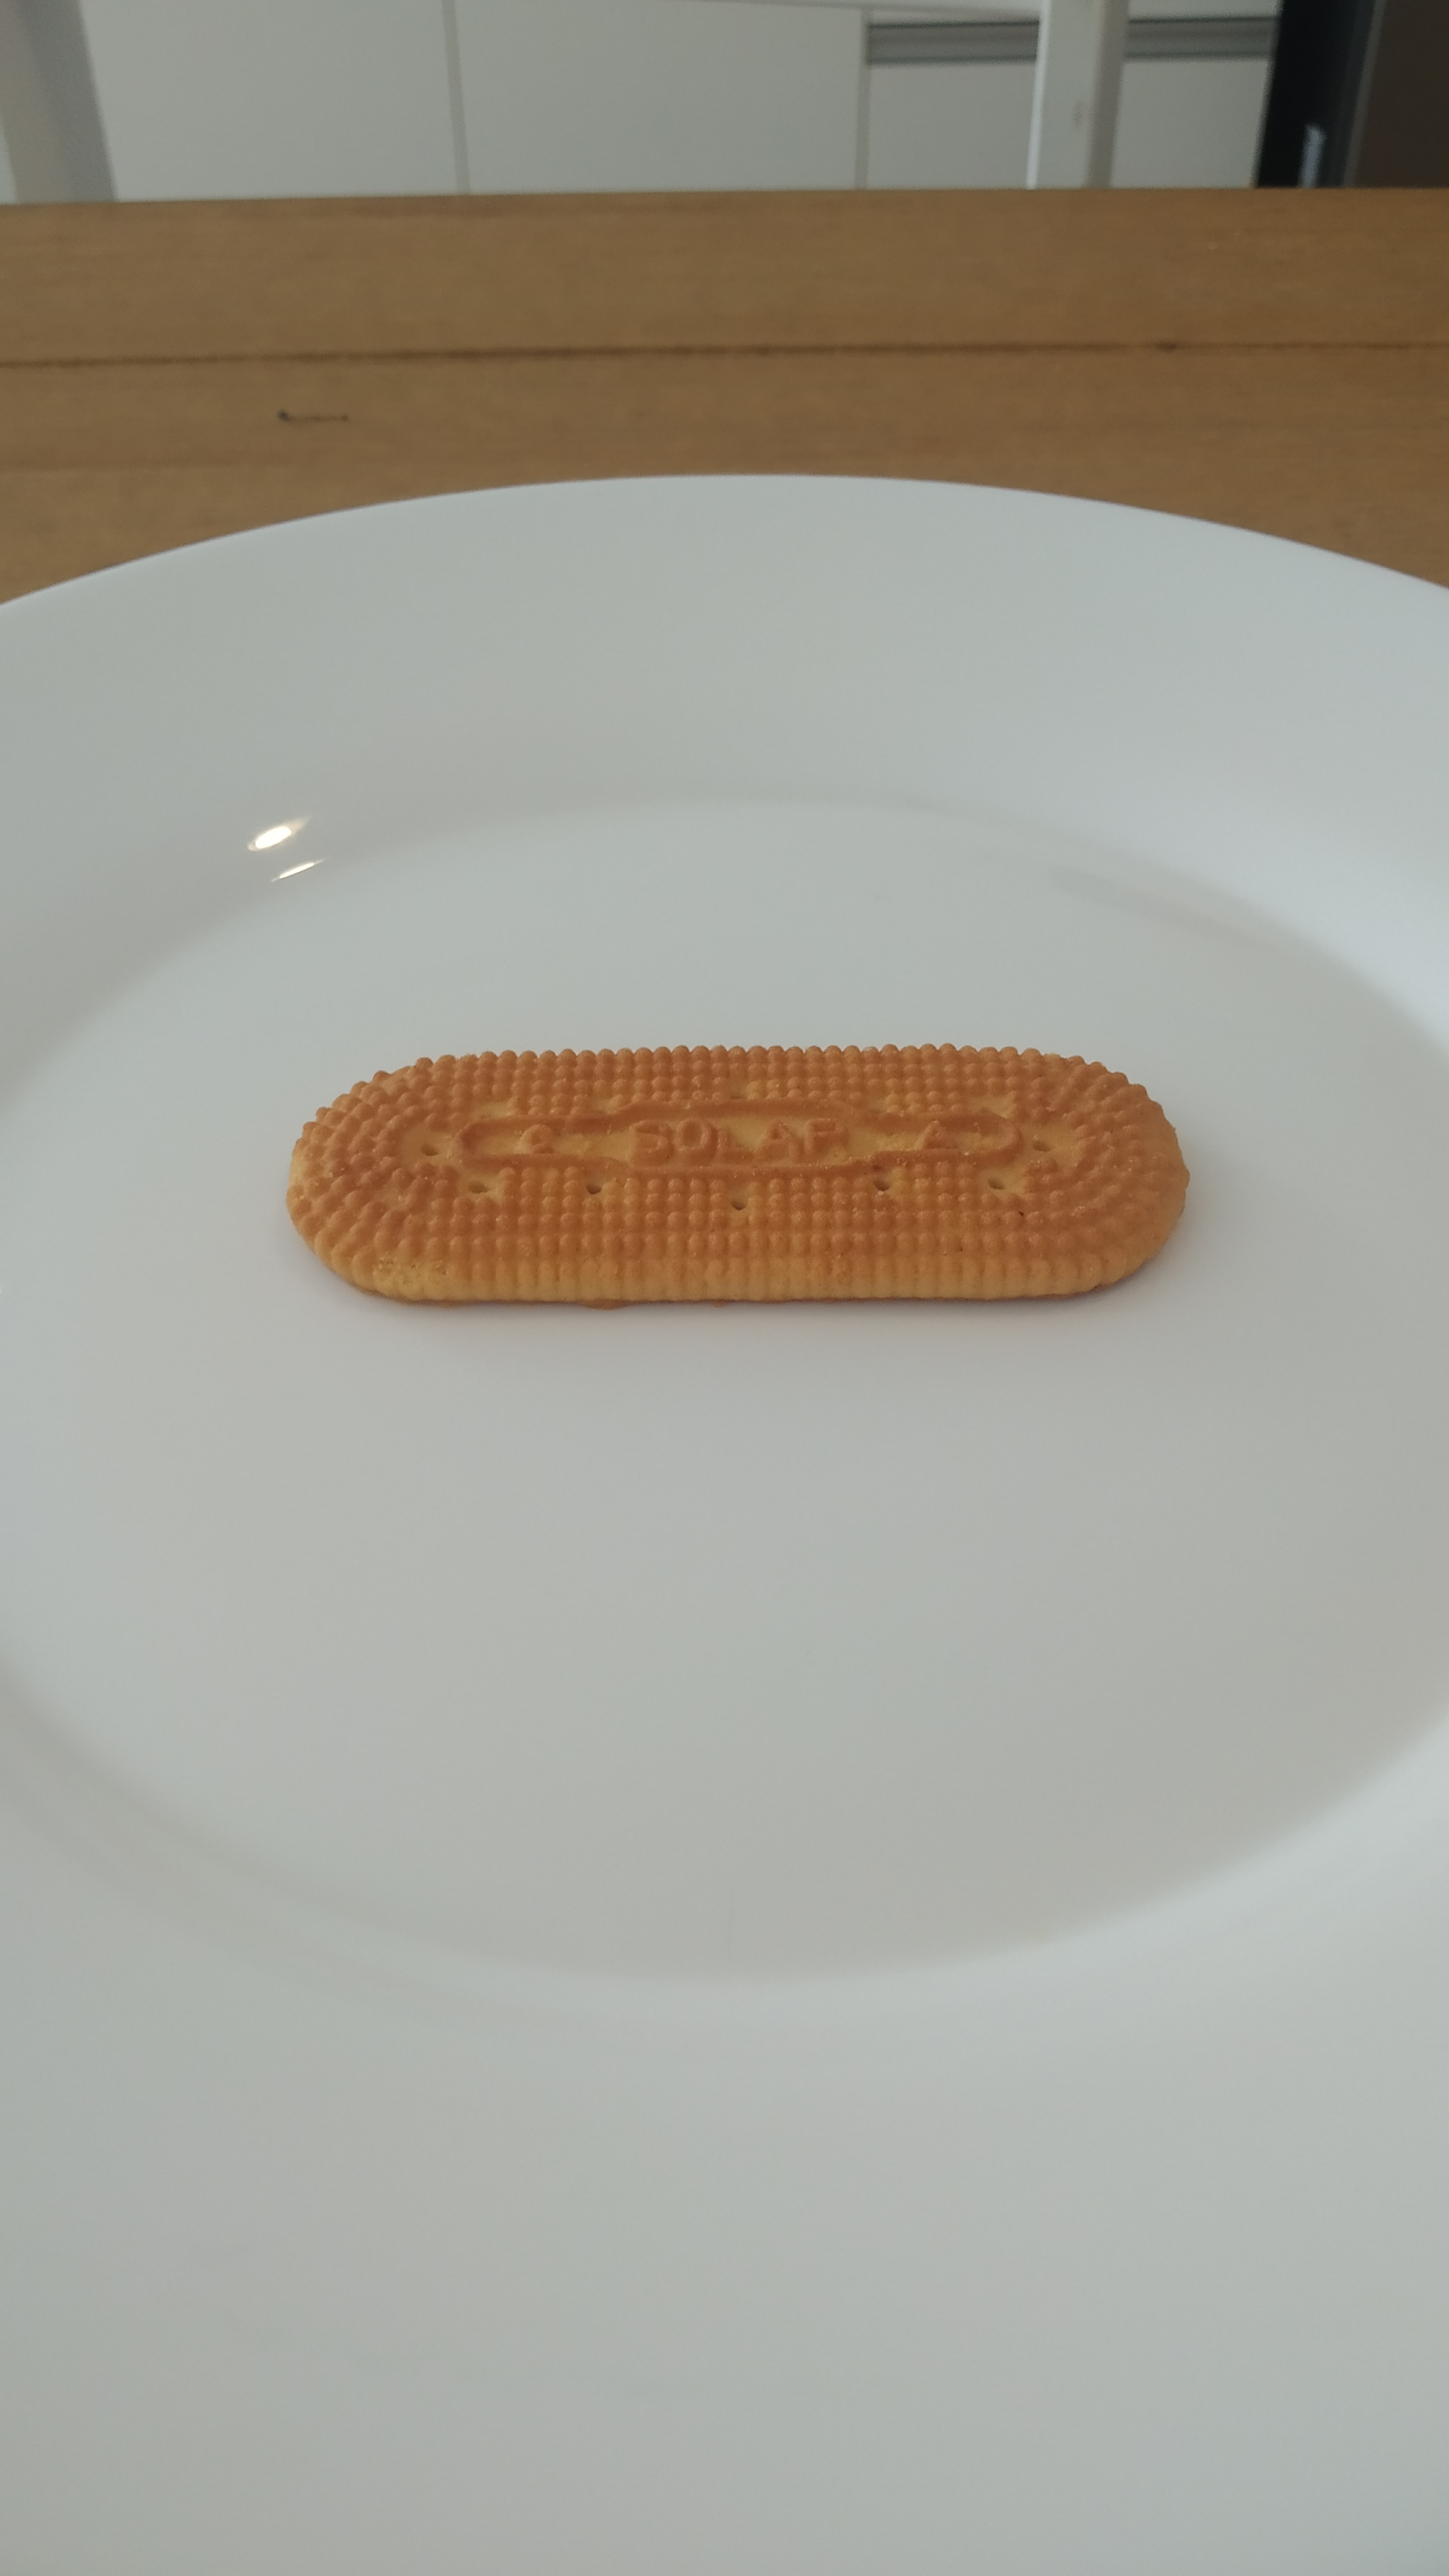solar: (287, 1044, 1189, 1307)
